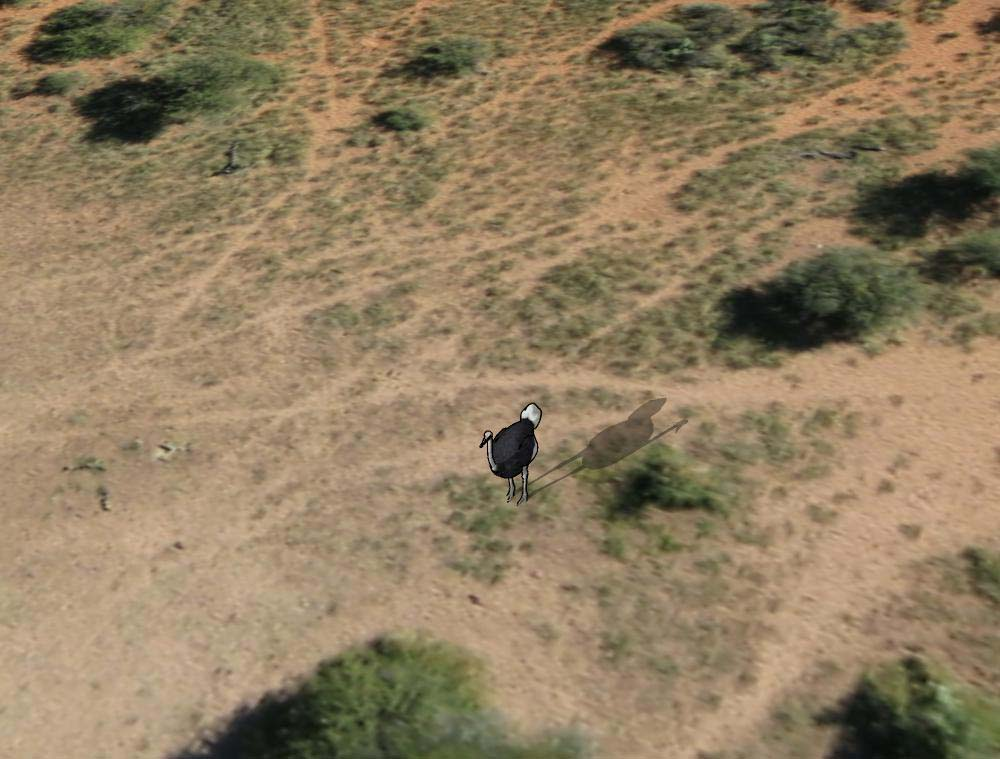ostrich: (473, 404, 550, 508)
